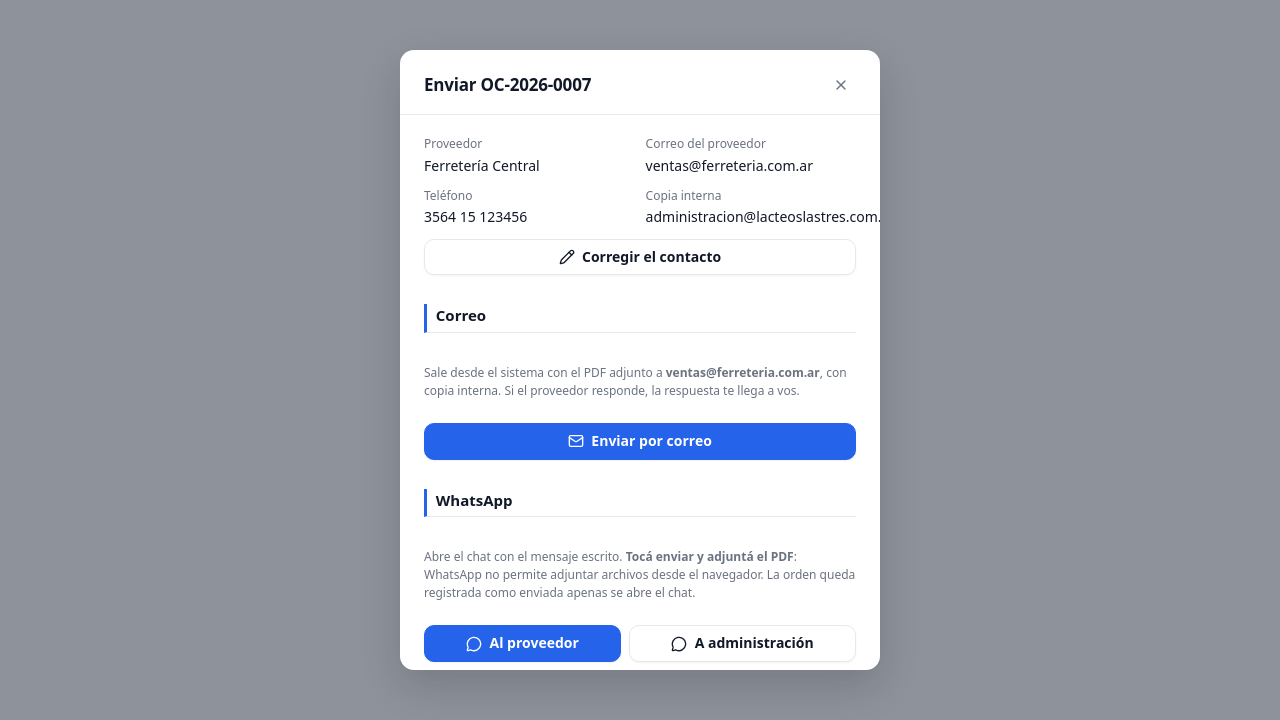
it: EnviarOrden — correo automático › un error que NO es 503 se muestra, sin caer al modo manual
Click the button "Enviar por correo". click: (640, 441)
box: [424,423,856,460]
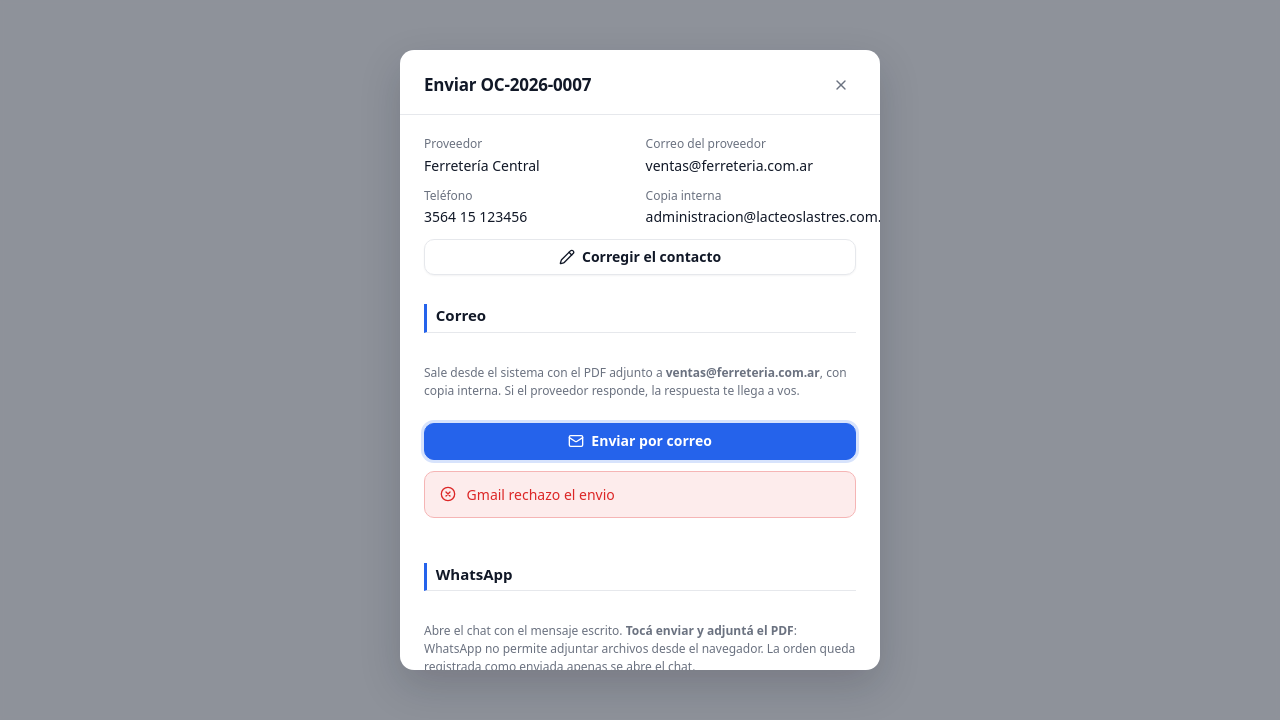
Check: the text "Gmail rechazo el envio" is shown, box [424,471,856,518]
